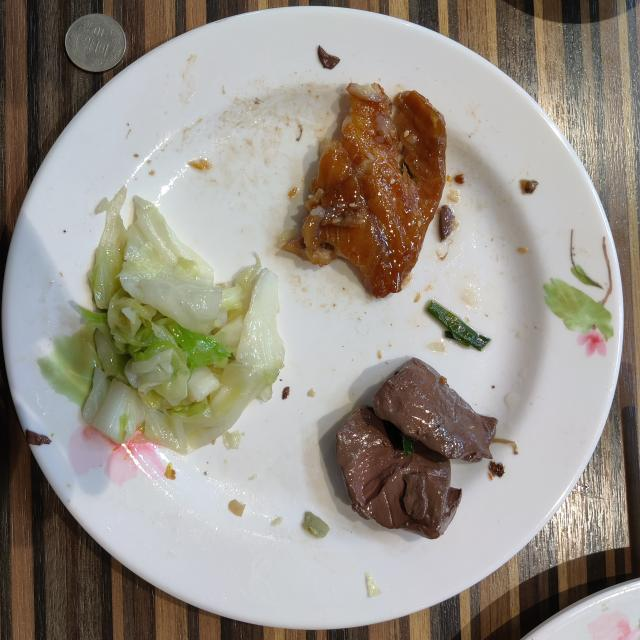Kabayaki sea bream fillet: (284, 84, 446, 298)
cabbage: (80, 189, 284, 454)
coin: (65, 14, 126, 72)
pig blood curd: (336, 359, 498, 539)
